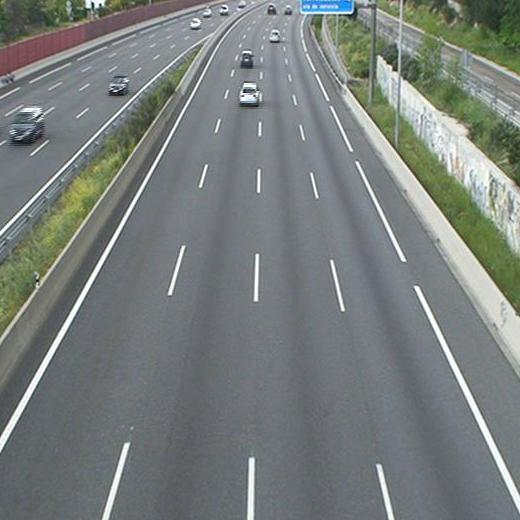car: (239, 82, 260, 106), (240, 49, 254, 67), (269, 29, 281, 44)
